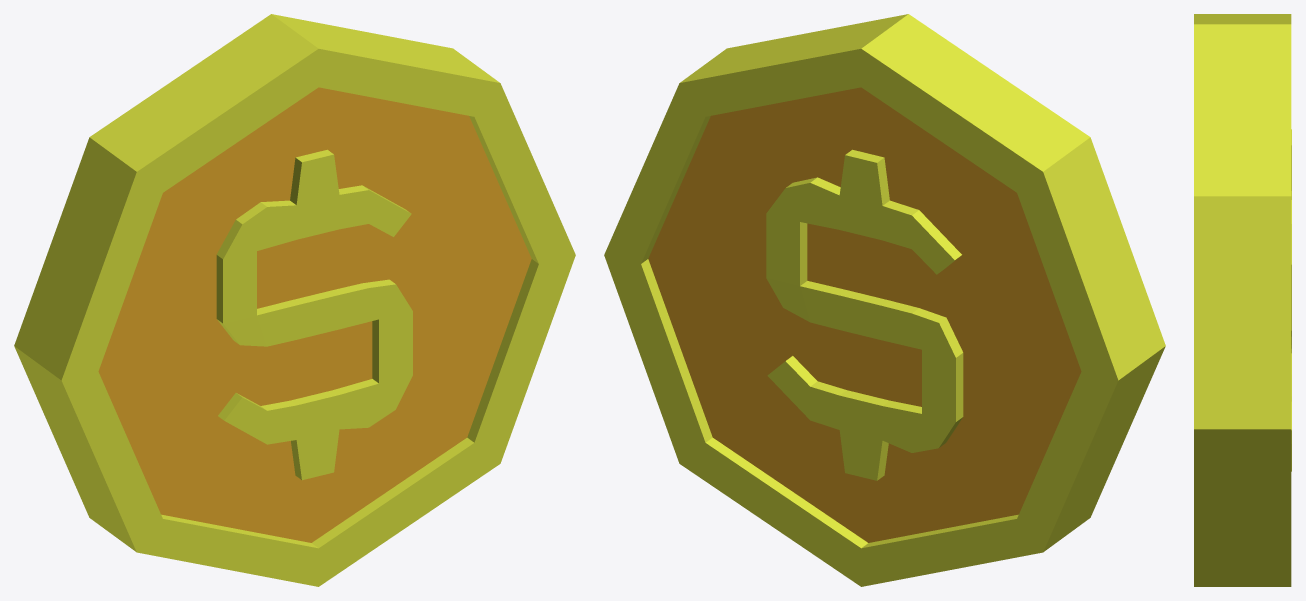
File: Coin.fbx
3 views of the same model, side by side, from view 1: azimuth 30°, elevation 25°; view 2: azimuth 150°, elevation 25°; view 3: azimuth 270°, elevation 25° (orthographic). The views are drawn at different scales.
Parts seen in each view (by area): view 1: Coin; view 2: Coin; view 3: Coin.
Boxes of the visible parts, x1,y1,x2,y2 form: Coin: (14,14,575,586); Coin: (604,14,1165,586); Coin: (1194,14,1291,586).
Size of the model in its own units: 1 by 1 by 0.1603.
